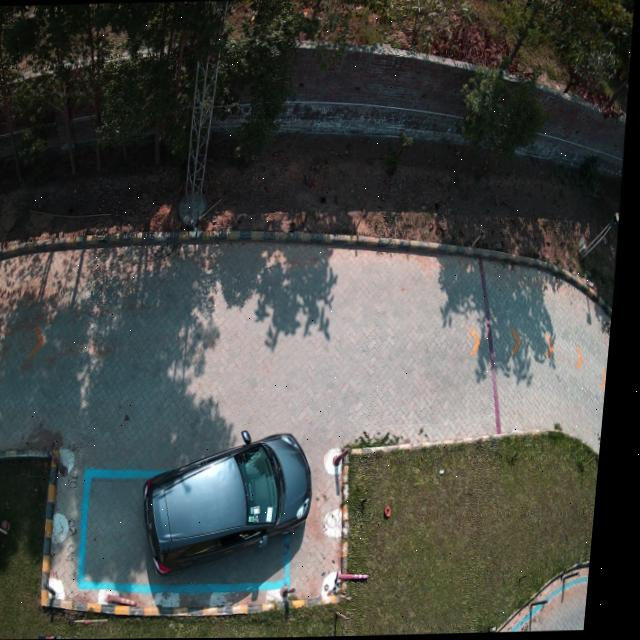car: (152, 432, 321, 574)
